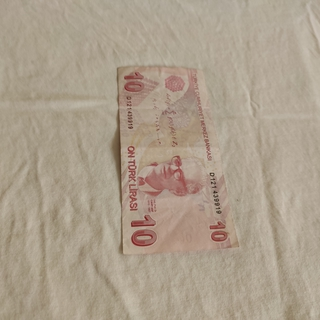10TLBack: (117, 65, 240, 256)
